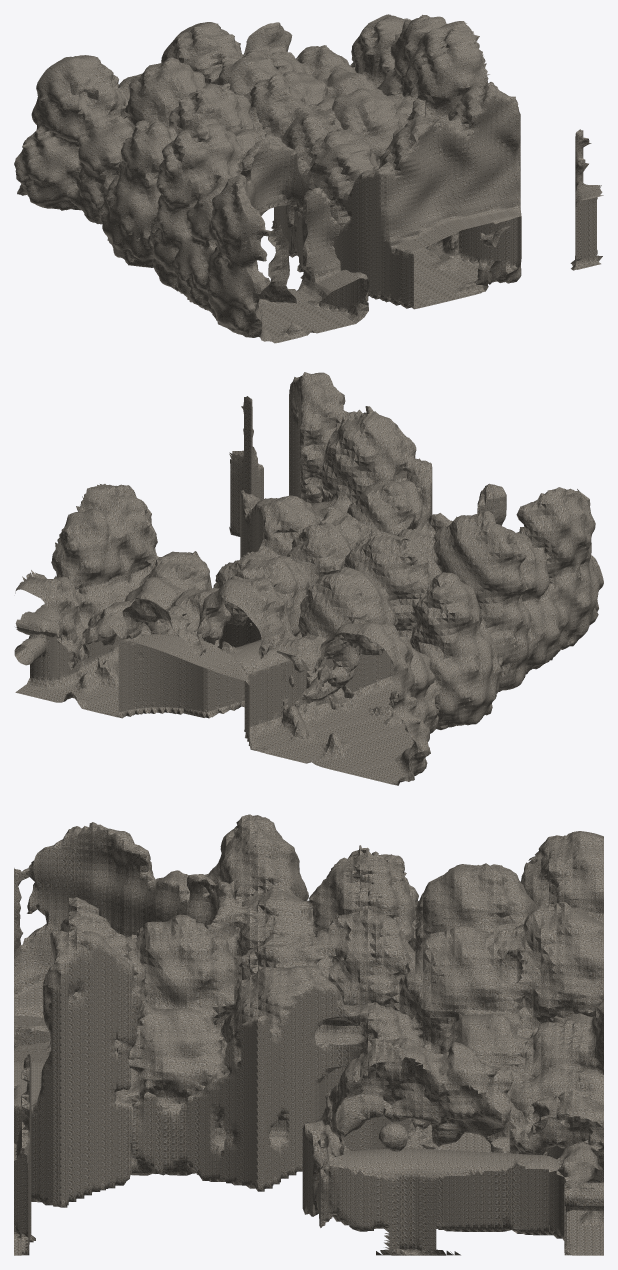
Rendered from taihu_rockery_2.glb.
The picture shows the model from 3 angles, top to bottom: view 1: azimuth 30°, elevation 25°; view 2: azimuth 150°, elevation 25°; view 3: azimuth 270°, elevation 25°; orthographic projection. The views are drawn at different scales.
Visible parts, largest first — view 1: taihu_rockery_20, taihu_rockery_21, taihu_rockery_23, taihu_rockery_28, taihu_rockery_26, taihu_rockery_210, taihu_rockery_27, taihu_rockery_25, taihu_rockery_22, taihu_rockery_212, taihu_rockery_211, taihu_rockery_24 (+2 smaller); view 2: taihu_rockery_20, taihu_rockery_212, taihu_rockery_23, taihu_rockery_21, taihu_rockery_25, taihu_rockery_22, taihu_rockery_210, taihu_rockery_27, taihu_rockery_29, taihu_rockery_28, taihu_rockery_26, taihu_rockery_213 (+2 smaller); view 3: taihu_rockery_211, taihu_rockery_212, taihu_rockery_210, taihu_rockery_29, taihu_rockery_213, taihu_rockery_28, taihu_rockery_27, taihu_rockery_26, taihu_rockery_23, taihu_rockery_21, taihu_rockery_25, taihu_rockery_22 (+1 smaller).
Boxes of the visible parts, x1,y1,x2,y2 form: taihu_rockery_20: [14, 65, 259, 336]; taihu_rockery_21: [20, 55, 316, 342]; taihu_rockery_23: [53, 39, 367, 343]; taihu_rockery_28: [168, 22, 490, 303]; taihu_rockery_26: [170, 22, 430, 308]; taihu_rockery_210: [249, 23, 521, 304]; taihu_rockery_27: [167, 22, 432, 309]; taihu_rockery_25: [118, 22, 432, 333]; taihu_rockery_22: [52, 55, 315, 342]; taihu_rockery_212: [296, 14, 602, 281]; taihu_rockery_211: [282, 28, 521, 284]; taihu_rockery_24: [118, 43, 368, 328]; taihu_rockery_20: [378, 491, 603, 785]; taihu_rockery_212: [14, 375, 325, 711]; taihu_rockery_23: [255, 484, 598, 780]; taihu_rockery_21: [317, 487, 603, 780]; taihu_rockery_25: [196, 423, 506, 765]; taihu_rockery_22: [318, 487, 599, 780]; taihu_rockery_210: [72, 372, 393, 718]; taihu_rockery_27: [197, 424, 432, 750]; taihu_rockery_29: [134, 391, 394, 718]; taihu_rockery_28: [133, 389, 432, 722]; taihu_rockery_26: [194, 423, 432, 750]; taihu_rockery_213: [15, 396, 263, 702]; taihu_rockery_211: [14, 928, 603, 1215]; taihu_rockery_212: [14, 948, 603, 1255]; taihu_rockery_210: [14, 914, 603, 1218]; taihu_rockery_29: [14, 914, 603, 1175]; taihu_rockery_213: [14, 1037, 603, 1255]; taihu_rockery_28: [14, 914, 603, 1177]; taihu_rockery_27: [14, 902, 603, 1138]; taihu_rockery_26: [14, 902, 603, 1138]; taihu_rockery_23: [14, 814, 602, 1044]; taihu_rockery_21: [14, 814, 603, 1017]; taihu_rockery_25: [14, 845, 603, 1138]; taihu_rockery_22: [14, 814, 603, 1017].
Bounding box in the file's own units: 19.34 × 8.89 × 18.
Materials: 1 (1 with a texture image).
